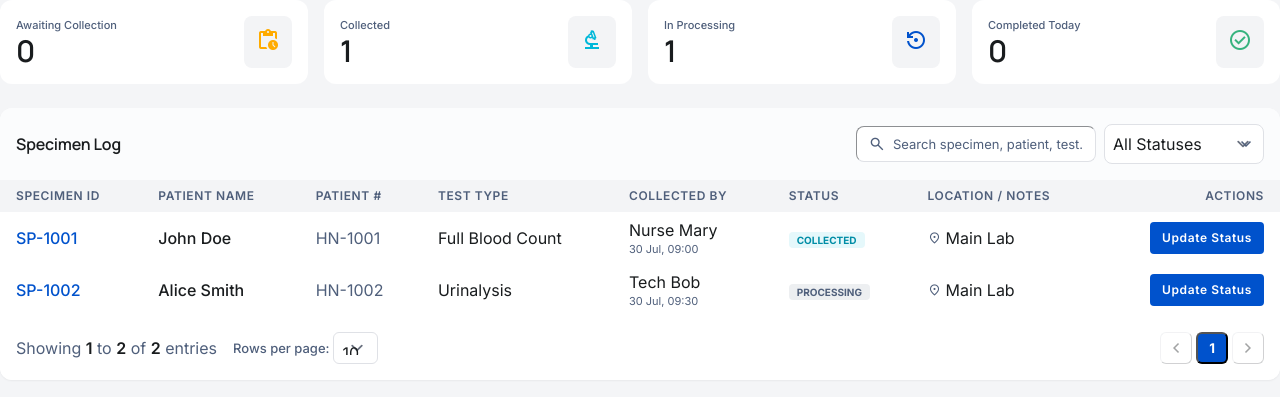
Test case: SpecimenTrackingPage Component › filters specimen log live as user types in search bar without errors
Expected: the text "John Doe" is shown, [142, 212, 300, 264]
Step 1. Type "SP-1002" into the field with placeholder "Search specimen, patient, test..." → (976, 144), box [856, 126, 1096, 162]
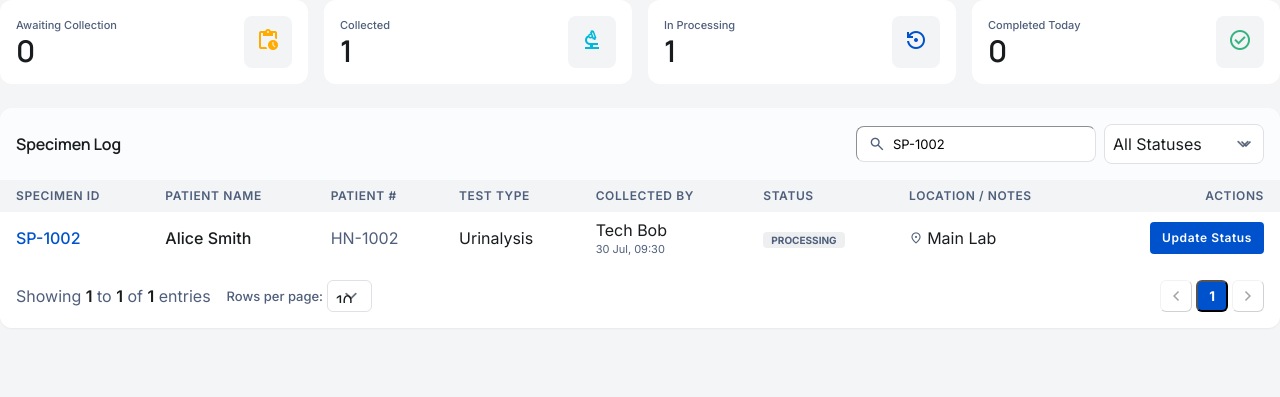
Expected: the text "Alice Smith" is shown, [149, 212, 315, 264]
Expected: the text "John Doe" is gone
